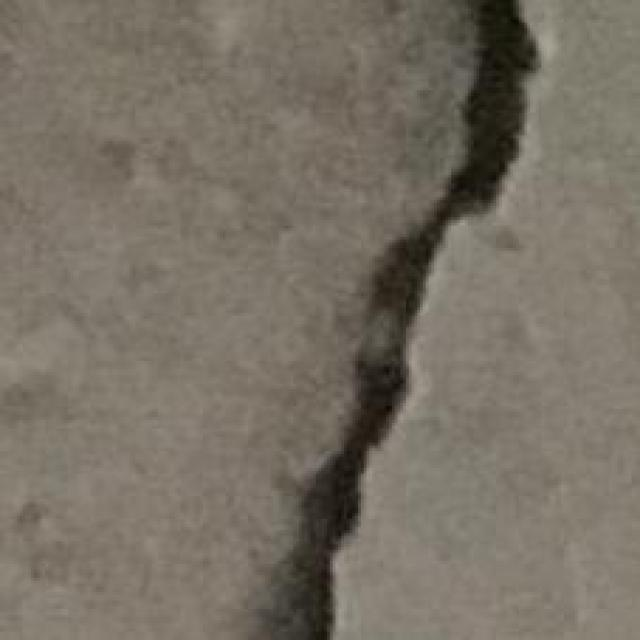Crack: (259, 0, 536, 637)
